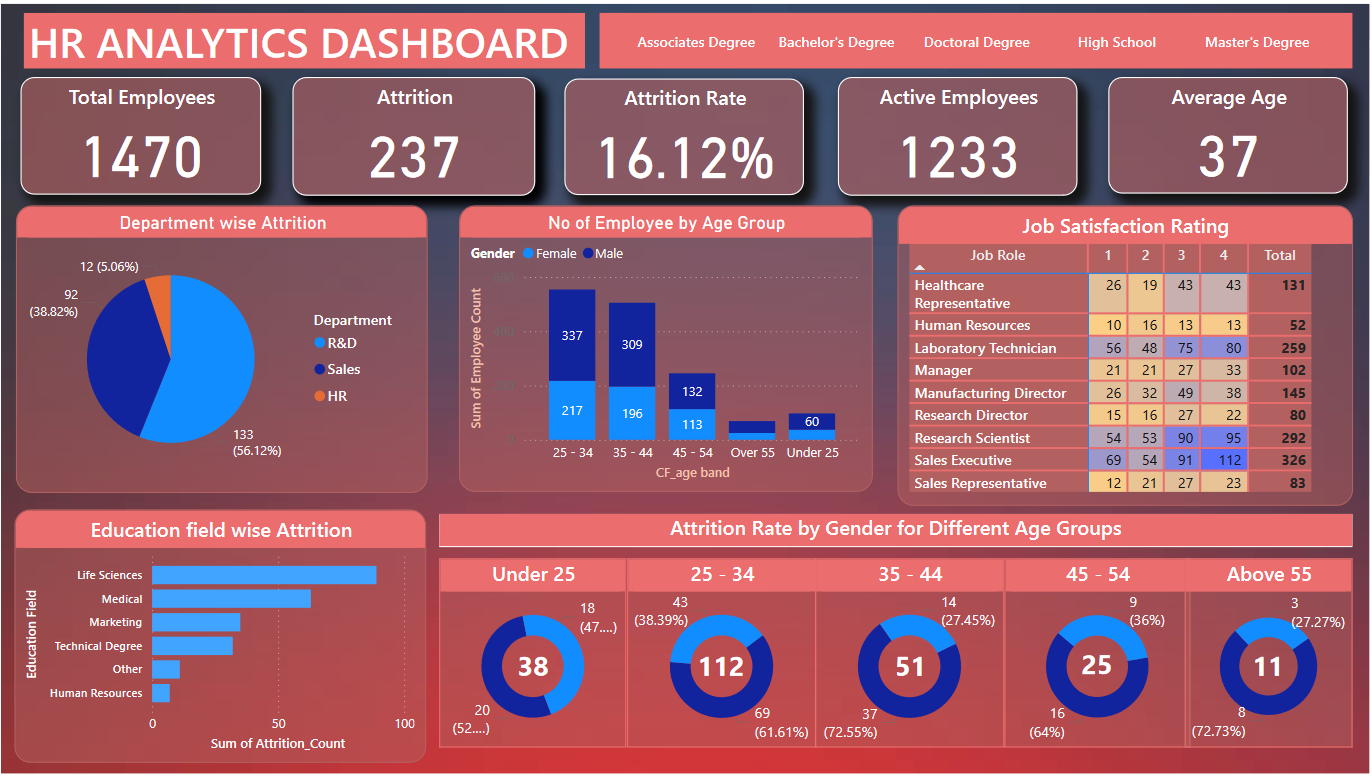

The dashboard page shown, as its layout file describes it:
{"tool":"powerbi","page":{"name":"Page 1","canvas":[1280,720],"ordinal":0},"visuals":[{"type":"card","title":"Total Employees","fields":{"Values":["Sum(HR data.Employee Count)"]},"box":[18.9,69,225.1,110],"z":0},{"type":"card","title":"Attrition","fields":{"Values":["Sum(HR data.Attrition_Count)"]},"box":[273.4,69.1,227.3,110.6],"z":1000},{"type":"card","title":"Attrition Rate","fields":{"Values":["HR data.Attrition rate"]},"box":[526.9,70.7,224.3,109.1],"z":2000},{"type":"card","title":"Active Employees","fields":{"Values":["HR data.Active employees"]},"box":[783.4,69.1,224.3,110.6],"z":3000},{"type":"card","title":"Average Age","fields":{"Values":["Avg(HR data.Age)"]},"box":[1035.3,69.1,224.3,109.1],"z":4000},{"type":"pieChart","title":"Department wise Attrition ","fields":{"Category":["HR data.Department"],"Y":["Sum(HR data.Attrition_Count)"]},"box":[14.6,188.1,385.4,268.8],"z":5000},{"type":"columnChart","title":"No of Employee by Age Group","fields":{"Category":["HR data.CF_age band"],"Series":["HR data.Gender"],"Y":["Sum(HR data.Employee Count)"]},"box":[428.3,188.3,386.7,268.3],"z":6000},{"type":"pivotTable","title":"Job Satisfaction Rating","fields":{"Rows":["HR data.Job Role"],"Columns":["HR data.Job Satisfaction"],"Values":["Sum(HR data.Employee Count)"]},"box":[838.7,188.9,425.5,281.1],"z":7000},{"type":"barChart","title":"Education field wise Attrition","fields":{"Category":["HR data.Education Field"],"Y":["Sum(HR data.Attrition_Count)"]},"box":[13.2,472.8,385.4,237.1],"z":8000},{"type":"donutChart","title":"Under 25","fields":{"Y":["Sum(HR data.Attrition_Count)"],"Category":["HR data.Gender"],"Series":["HR data.CF_age band"]},"box":[410.1,519.2,175.1,176.7],"z":9000},{"type":"textbox","title":" Attrition Rate by Gender for Different Age Groups","box":[410.1,477.7,854.1,30.7],"z":10000},{"type":"donutChart","title":"25 - 34","fields":{"Y":["Sum(HR data.Attrition_Count)"],"Category":["HR data.Gender"],"Series":["HR data.CF_age band"]},"box":[585.3,519.2,176.7,176.7],"z":11000},{"type":"donutChart","title":"45 - 54","fields":{"Y":["Sum(HR data.Attrition_Count)"],"Category":["HR data.Gender"],"Series":["HR data.CF_age band"]},"box":[938.6,519.2,173.6,176.7],"z":12000},{"type":"donutChart","title":"35 - 44","fields":{"Y":["Sum(HR data.Attrition_Count)"],"Category":["HR data.Gender"],"Series":["HR data.CF_age band"]},"box":[761.9,519.2,176.7,176.7],"z":13000},{"type":"donutChart","title":"Above 55","fields":{"Y":["Sum(HR data.Attrition_Count)"],"Category":["HR data.Gender"],"Series":["HR data.CF_age band"]},"box":[1107.5,519.2,156.7,176.7],"z":14000},{"type":"card","fields":{"Values":["Sum(HR data.Attrition_Count)"]},"box":[456.2,591.4,84.5,56.8],"z":15000},{"type":"card","fields":{"Values":["Sum(HR data.Attrition_Count)"]},"box":[631.3,591.4,84.5,56.8],"z":16000},{"type":"card","fields":{"Values":["Sum(HR data.Attrition_Count)"]},"box":[808,591.4,84.5,56.8],"z":17000},{"type":"card","fields":{"Values":["Sum(HR data.Attrition_Count)"]},"box":[983.1,589.9,84.5,56.8],"z":18000},{"type":"card","fields":{"Values":["Sum(HR data.Attrition_Count)"]},"box":[1142.9,591.4,84.5,56.8],"z":19000},{"type":"textbox","title":"HR ANALYTICS DASHBOARD","box":[21.5,9.2,525.4,52.2],"z":20000},{"type":"slicer","fields":{"Values":["HR data.Education"]},"box":[560.7,9.2,703.5,52.2],"z":21000}]}

Visuals, with their boxes in screenshot pixels (x1, y1, x2, y2), scaled from the page's 1280x720 canvas onto the 1372x776 screenshot:
"Total Employees" card: detection(20, 74, 262, 193)
"Attrition" card: detection(293, 74, 537, 194)
"Attrition Rate" card: detection(565, 76, 805, 194)
"Active Employees" card: detection(840, 74, 1080, 194)
"Average Age" card: detection(1110, 74, 1350, 192)
"Department wise Attrition " pieChart: detection(16, 203, 429, 492)
"No of Employee by Age Group" columnChart: detection(459, 203, 874, 492)
"Job Satisfaction Rating" pivotTable: detection(899, 204, 1355, 507)
"Education field wise Attrition" barChart: detection(14, 510, 427, 765)
"Under 25" donutChart: detection(440, 560, 627, 750)
" Attrition Rate by Gender for Different Age Groups" textbox: detection(440, 515, 1355, 548)
"25 - 34" donutChart: detection(627, 560, 817, 750)
"45 - 54" donutChart: detection(1006, 560, 1192, 750)
"35 - 44" donutChart: detection(817, 560, 1006, 750)
"Above 55" donutChart: detection(1187, 560, 1355, 750)
card - Sum(HR data.Attrition_Count): detection(489, 637, 580, 699)
card - Sum(HR data.Attrition_Count): detection(677, 637, 767, 699)
card - Sum(HR data.Attrition_Count): detection(866, 637, 957, 699)
card - Sum(HR data.Attrition_Count): detection(1054, 636, 1144, 697)
card - Sum(HR data.Attrition_Count): detection(1225, 637, 1316, 699)
"HR ANALYTICS DASHBOARD" textbox: detection(23, 10, 586, 66)
slicer - HR data.Education: detection(601, 10, 1355, 66)
